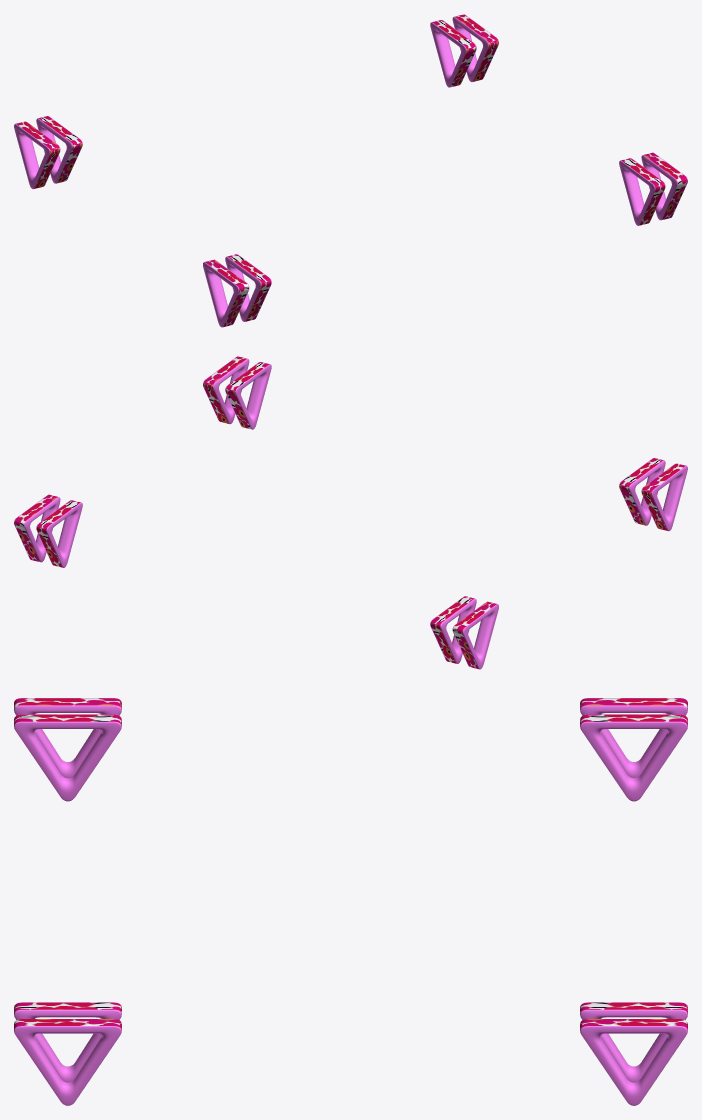
Rendered from Unikko_Leg_B.glb.
3 views of the same model, one above another, from view 1: azimuth 30°, elevation 25°; view 2: azimuth 150°, elevation 25°; view 3: azimuth 270°, elevation 25° (orthographic). The views are drawn at different scales.
Parts seen in each view (by area): view 1: Unikko_Leg_B; view 2: Unikko_Leg_B; view 3: Unikko_Leg_B.
Part boxes in pixels (box(x1,y1,x2,y2)): Unikko_Leg_B: box(14, 14, 687, 327); Unikko_Leg_B: box(14, 356, 687, 669); Unikko_Leg_B: box(14, 698, 687, 1105).
Bounding box in the file's own units: 0.3536 × 0.04 × 0.3062.
Materials: 2 (1 with a texture image).
